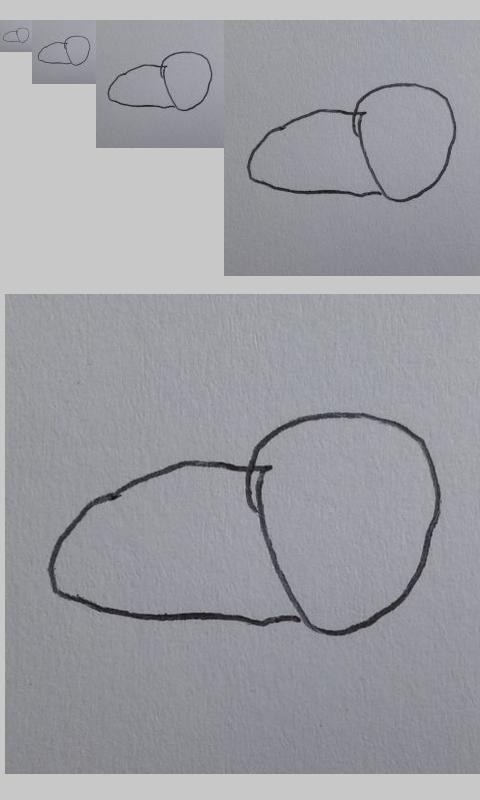switch: (47, 411, 445, 638), (246, 82, 457, 203), (107, 51, 213, 111), (37, 35, 91, 67), (2, 27, 30, 43)
